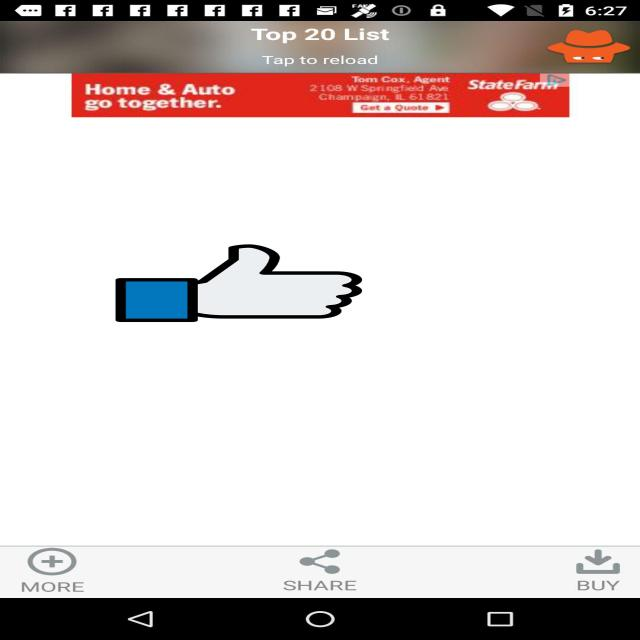privacy zuckering: (116, 242, 362, 324)
